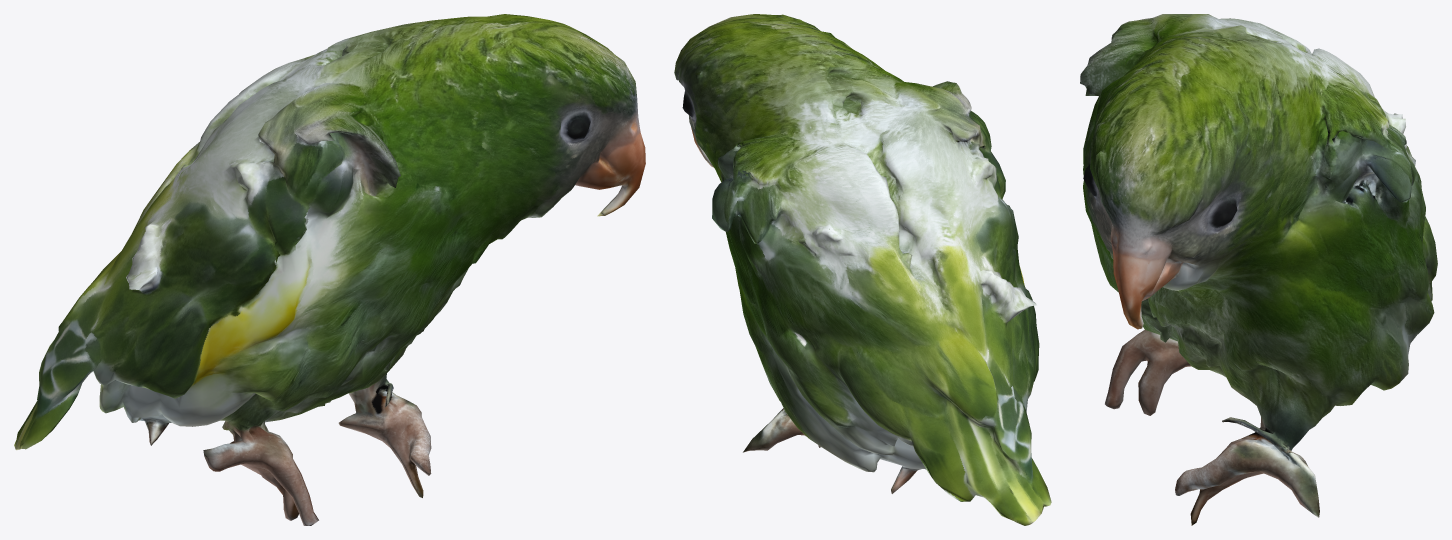
File: example.glb
3 views of the same model, side by side, from view 1: azimuth 30°, elevation 25°; view 2: azimuth 150°, elevation 25°; view 3: azimuth 270°, elevation 25° (orthographic). The views are drawn at different scales.
Size of the model in its own units: 0.8956 by 0.7678 by 0.5046.
Materials: 1 (1 with a texture image).
